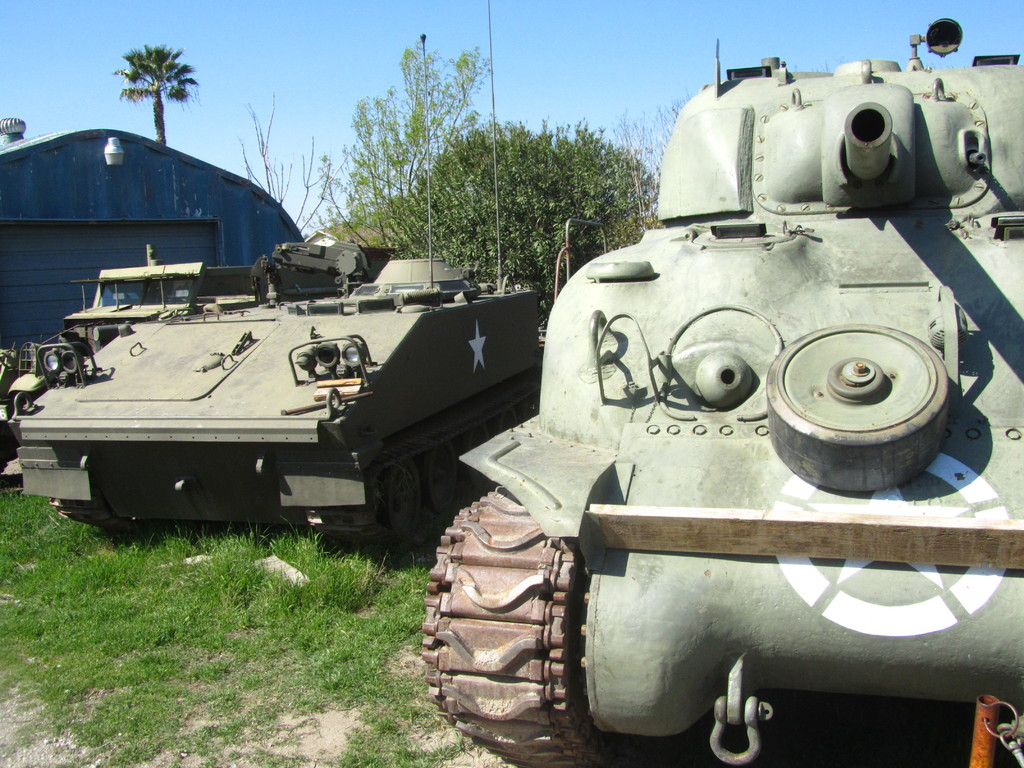Tree: (301, 37, 954, 337), (110, 39, 200, 146)
